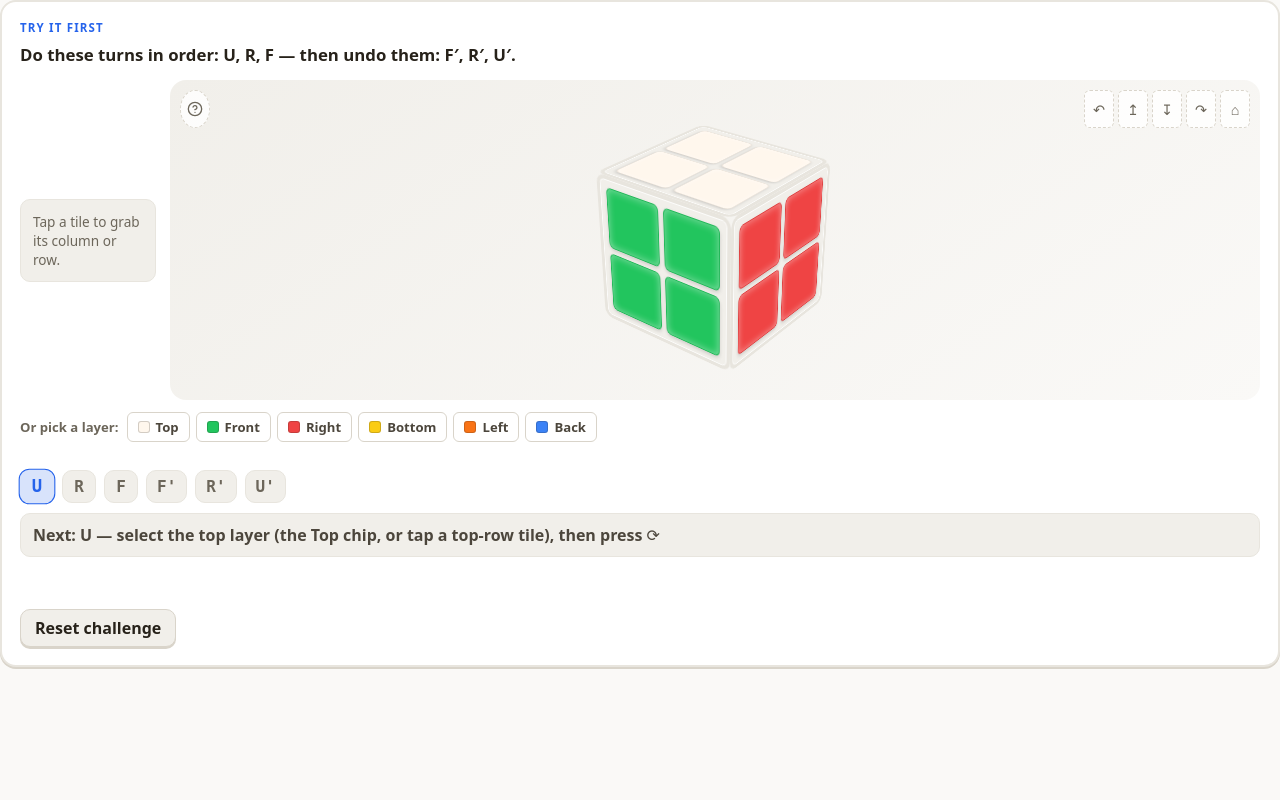
ChallengePanel — tap vs drag discrimination › a tap with tiny movement still selects the face (no spurious click suppression)
Press the mouse on the element named "interactive 2×2 cube preview" at [715, 240], box [170,80,1260,400]
Click the button named ", F)" at [664, 272], box [596,172,731,372]
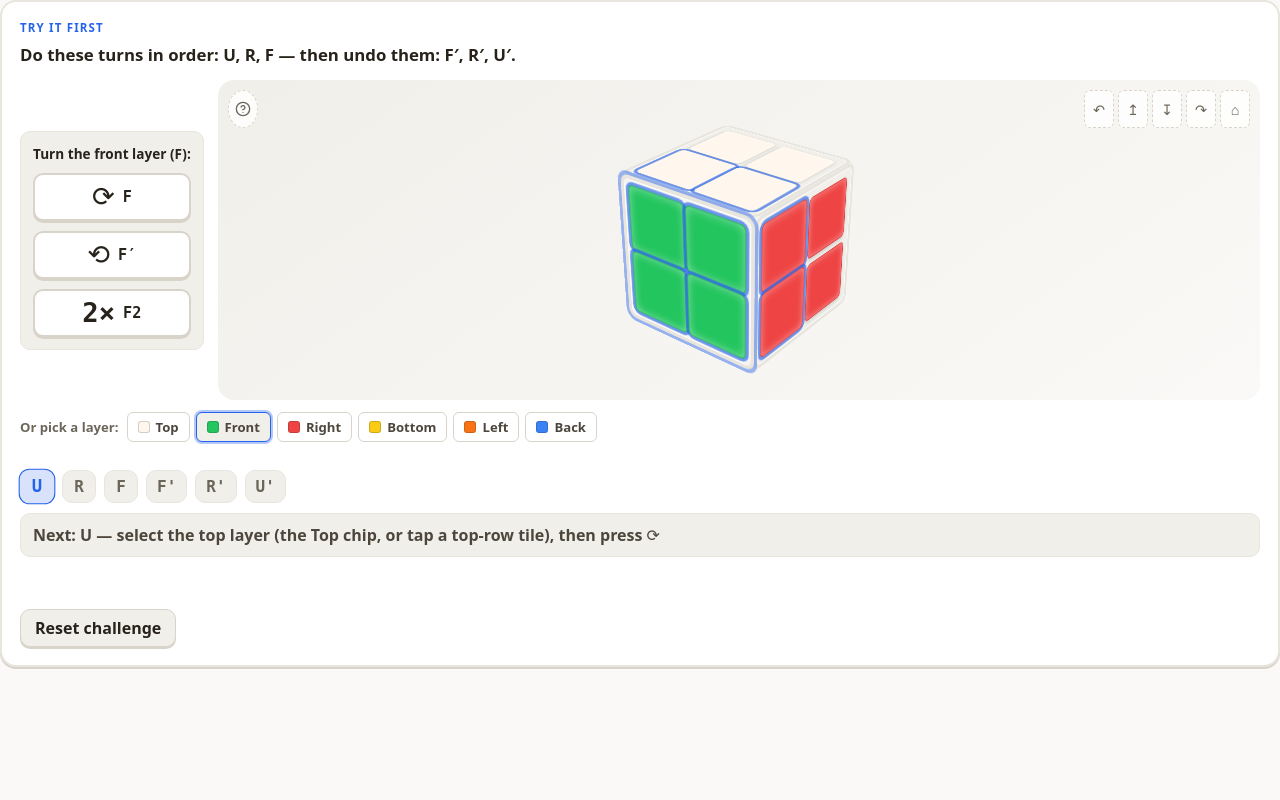
Expected: the text "Turn the front layer (F):" is shown, [33,144,191,162]
